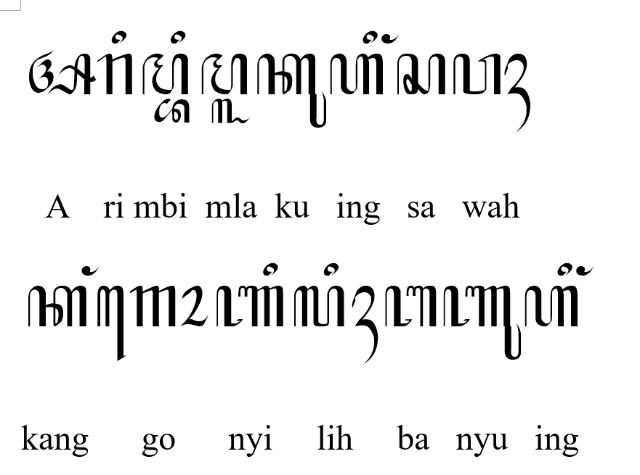A: (28, 50, 96, 96)
_b: (153, 98, 189, 123)
_h1: (504, 53, 530, 132), (352, 286, 378, 364)
_l: (212, 98, 250, 124)
b: (385, 286, 437, 328)
e1: (96, 286, 126, 362)
g: (130, 285, 177, 327)
h: (525, 286, 579, 328), (330, 54, 382, 95)
i: (362, 31, 378, 45), (112, 30, 126, 44), (264, 262, 278, 276), (324, 262, 338, 276), (172, 31, 186, 44), (558, 264, 572, 276)
k: (27, 286, 87, 328)
ku: (257, 53, 327, 128)
l: (293, 286, 345, 327)
m: (202, 53, 248, 96), (142, 54, 188, 95)
ng: (80, 266, 100, 276), (381, 34, 399, 44), (576, 266, 594, 276)
ny1: (214, 285, 284, 328)
nyu1: (442, 286, 522, 361)
o: (179, 285, 209, 327)
r: (97, 53, 133, 95)
s: (397, 53, 445, 95)
w: (453, 53, 501, 95)
